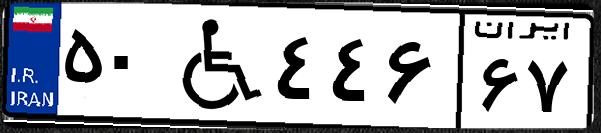0: (110, 28, 158, 98)
4: (270, 28, 330, 110), (330, 28, 385, 110)
5: (57, 26, 110, 100)
6: (385, 28, 445, 110), (475, 38, 525, 113)
7: (525, 38, 570, 115)
ژ (معلولین و جانبازان): (158, 12, 270, 120)
